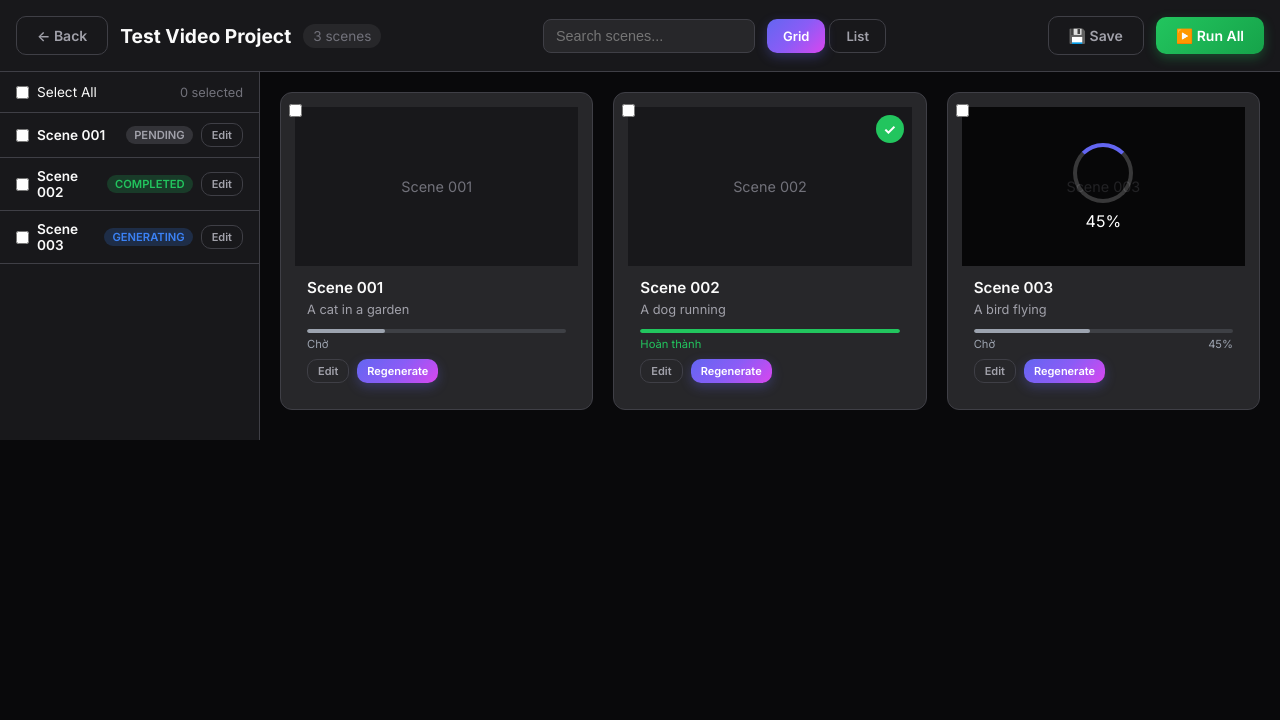
Test: VideoProjectEditor › opens scene edit modal on Edit click
Click the button "Edit" next to "pending" at (222, 135), box x1=201 y1=123 x2=243 y2=147
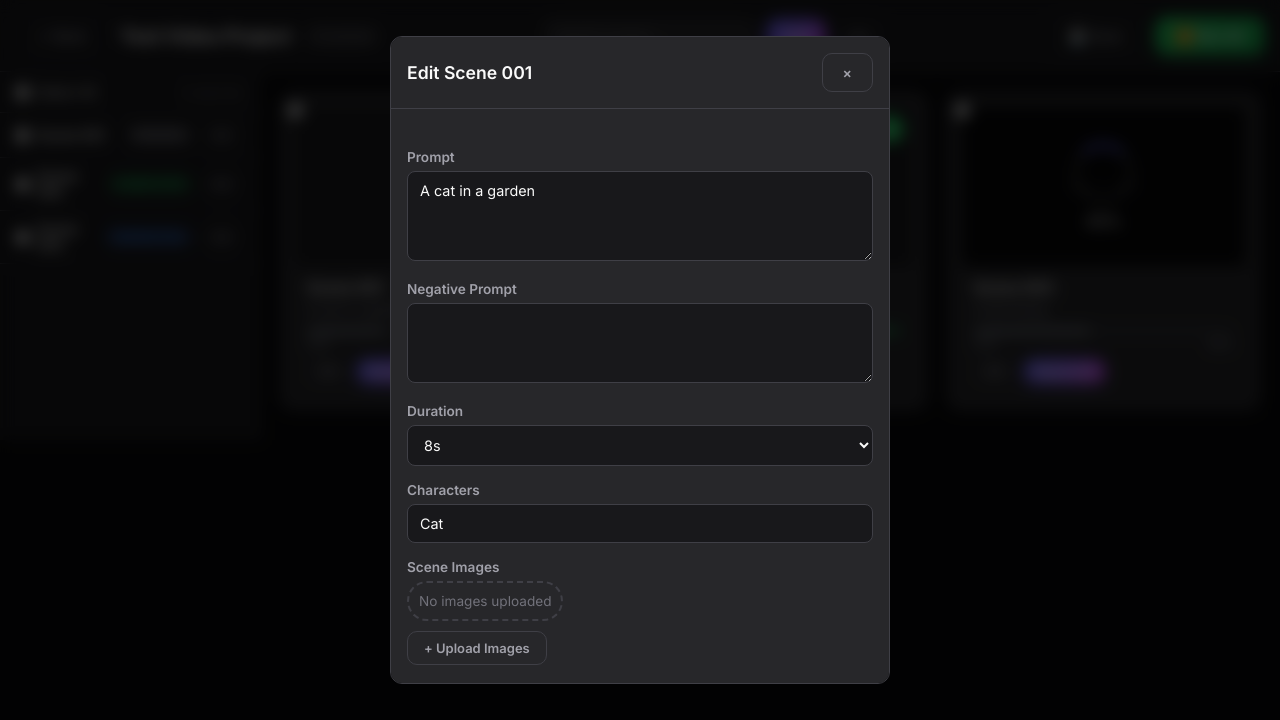
Expected: the heading "Edit Scene 001" is shown, x1=407 y1=62 x2=532 y2=83
